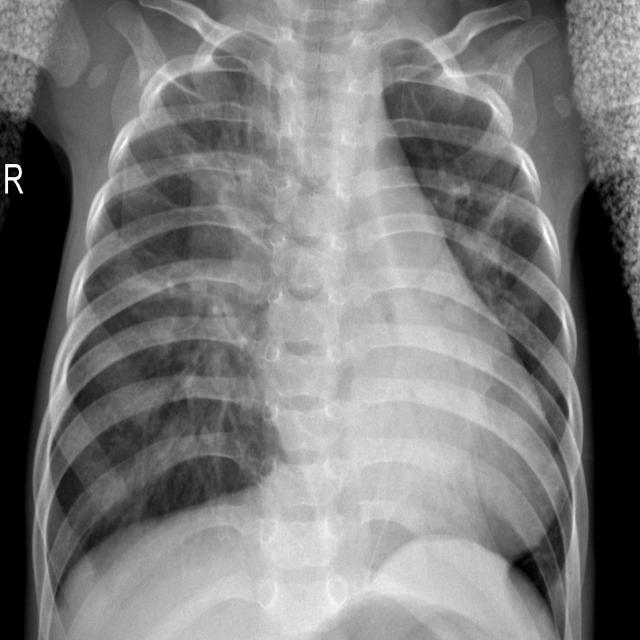bacterial_pneumonia: (1, 0, 640, 640)
